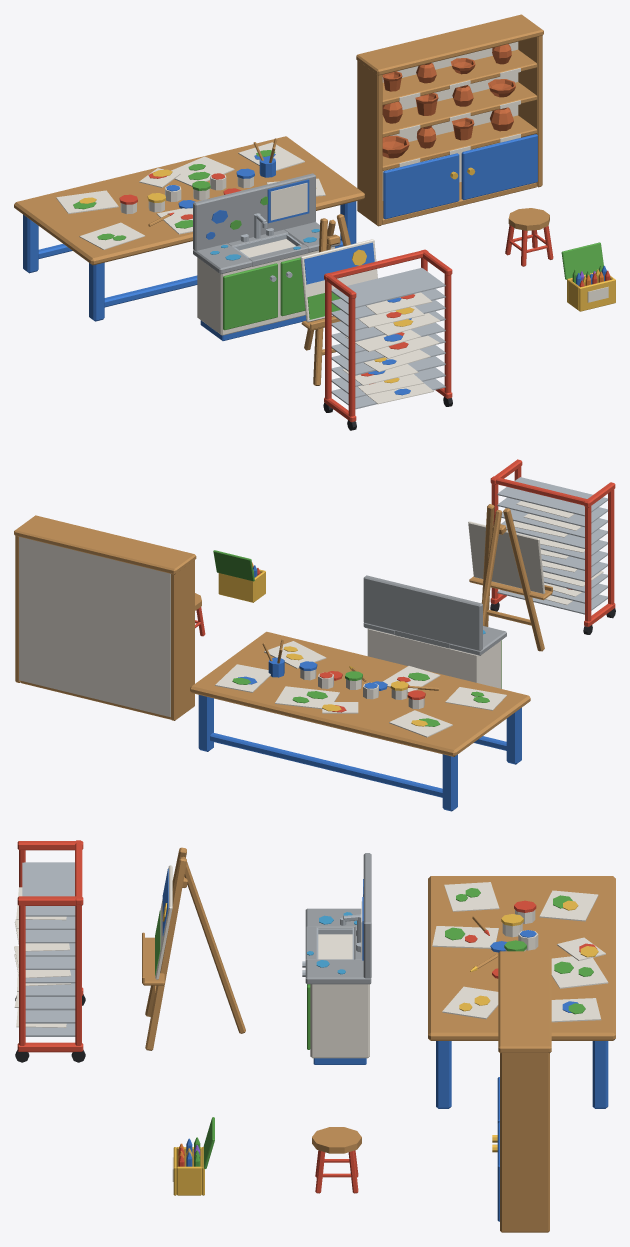
The model's file is school-art-room-set.glb.
3 renders of one model, top to bottom at view 1: azimuth 30°, elevation 25°; view 2: azimuth 150°, elevation 25°; view 3: azimuth 270°, elevation 25°, orthographic. The views are drawn at different scales.
Visible parts, largest first — view 1: Table_Top, Shelf_Top, Sink_Backsplash, Shelf_Side_0, ShelfDoor_L, ShelfDoor_R, Sink_Cabinet, SinkDoor_L, Shelf_Board_2, Shelf_Board_1, Shelf_Board_0, Shelf_Back (+35 smaller); view 2: Shelf_Back, Table_Top, Sink_Backsplash, Shelf_Top, Sink_Cabinet, Shelf_Side_0, Easel_Canvas, Table_Bar_1, Easel, Rack_Shelf_9, Table_Leg_2, CrayonLid (+21 smaller); view 3: Table_Top, Shelf_Side_1, Shelf_Top, Sink_Cabinet, Rack_Shelf_9, Easel, Counter_R, Easel_BackLeg, Paper_0, Paper_3, Table_Leg_3, Stool_Seat (+23 smaller).
Part boxes in pixels (x1,y1,x2,y2): Table_Top: (14,136,364,265); Shelf_Top: (356,14,543,75); Sink_Backsplash: (193,173,315,250); Shelf_Side_0: (357,60,382,226); ShelfDoor_L: (383,153,459,219); ShelfDoor_R: (461,134,537,200); Sink_Cabinet: (197,239,334,335); SinkDoor_L: (223,263,277,330); Shelf_Board_2: (382,49,537,105); Shelf_Board_1: (382,82,537,137); Shelf_Board_0: (382,115,537,170); Shelf_Back: (382,41,518,200); Shelf_Back: (19,537,170,717); Table_Top: (190,631,530,756); Sink_Backsplash: (363,575,482,650); Shelf_Top: (14,515,196,574); Sink_Cabinet: (367,628,501,688); Shelf_Side_0: (170,560,194,720); Easel_Canvas: (468,521,545,593); Table_Bar_1: (210,732,442,797); Easel: (482,504,544,651); Rack_Shelf_9: (497,477,607,516); Table_Leg_2: (442,754,457,811); CrayonLid: (213,550,254,581); Table_Top: (428,876,615,1040); Shelf_Side_1: (500,1052,549,1232); Shelf_Top: (498,951,551,1053); Sink_Cabinet: (310,934,369,1058); Rack_Shelf_9: (22,862,75,916); Easel: (145,847,186,1050); Counter_R: (305,959,371,984); Easel_BackLeg: (180,856,245,1033); Paper_0: (444,882,499,911); Paper_3: (551,956,608,988); Table_Leg_3: (592,1041,608,1108); Stool_Seat: (312,1127,361,1153).
Size of the model in its own units: 21.1 by 6.57 by 19.22.
